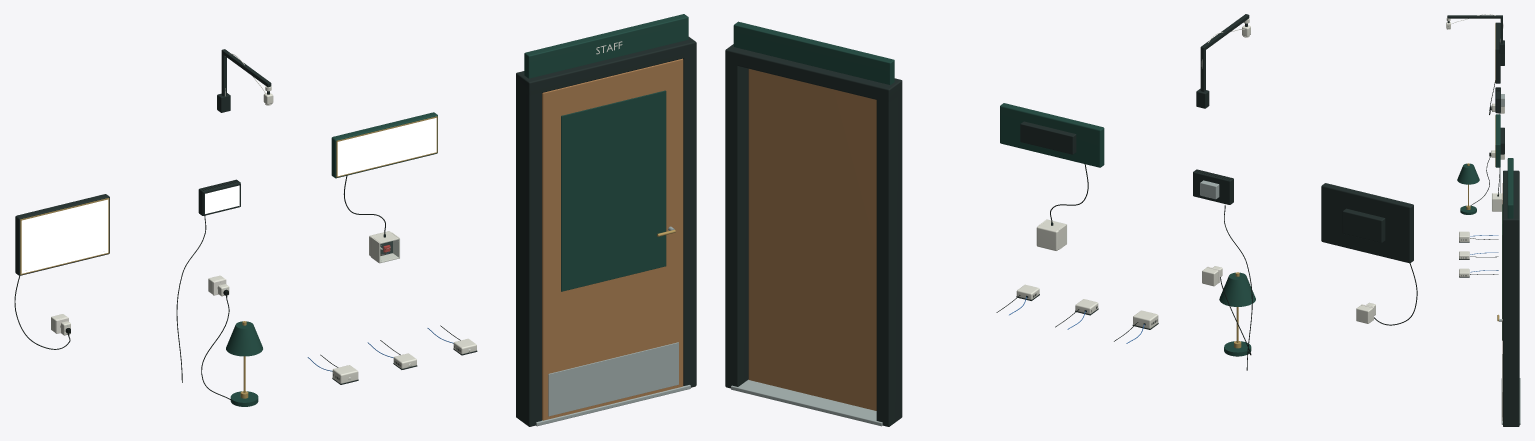
The model's file is automation-kit.studio.glb.
3 renders of one model, left to right at view 1: azimuth 30°, elevation 25°; view 2: azimuth 150°, elevation 25°; view 3: azimuth 270°, elevation 25°, orthographic. The views are drawn at different scales.
Parts seen in each view (by area): view 1: StaffDoorHinge_doorhoneyoak, StaffDoorHinge_spruceenamel, StaffDoorFrame_graphitehardware, StaffDoorHinge_stainlessfasteners, PromoDisplayFace, StaffDoorFrame_spruceenamel, IlluminatedSignFace, DeskLamp_spruceenamel, PromoDisplay_graphitehardware, IlluminatedSign_spruceenamel, ZigbeePresenceSensor_graphitehardware, StaffDoorFrame_stainlessfasteners (+2 smaller); view 2: StaffDoorHinge_doorhoneyoak, StaffDoorFrame_graphitehardware, PromoDisplay_graphitehardware, StaffDoorFrame_spruceenamel, IlluminatedSign_spruceenamel, StaffDoorFrame_stainlessfasteners, IlluminatedSign_graphitehardware, DeskLamp_spruceenamel, EdgeController_graphitehardware, ZigbeePresenceSensor_graphitehardware, ShellyRelay_warmappliancepolymer; view 3: StaffDoorFrame_graphitehardware, DeskLamp_spruceenamel, StaffDoorFrame_spruceenamel, PromoDisplay_graphitehardware, ZigbeePresenceSensor_graphitehardware, IlluminatedSign_spruceenamel, StaffDoorHinge_doorhoneyoak, ShellyRelay_warmappliancepolymer, EdgeController_graphitehardware, StaffDoorFrame_stainlessfasteners, IlluminatedSign_graphitehardware, StaffDoorHinge_spruceenamel (+4 smaller).
Part boxes in pixels (bbox=[...]): StaffDoorHinge_doorhoneyoak: bbox=[542, 58, 683, 420]; StaffDoorHinge_spruceenamel: bbox=[561, 90, 666, 291]; StaffDoorFrame_graphitehardware: bbox=[516, 37, 696, 426]; StaffDoorHinge_stainlessfasteners: bbox=[548, 226, 678, 416]; PromoDisplayFace: bbox=[21, 199, 108, 273]; StaffDoorFrame_spruceenamel: bbox=[524, 14, 688, 78]; IlluminatedSignFace: bbox=[337, 118, 436, 176]; DeskLamp_spruceenamel: bbox=[226, 321, 262, 406]; PromoDisplay_graphitehardware: bbox=[15, 194, 109, 275]; IlluminatedSign_spruceenamel: bbox=[331, 112, 437, 178]; ZigbeePresenceSensor_graphitehardware: bbox=[217, 49, 271, 112]; StaffDoorFrame_stainlessfasteners: bbox=[536, 385, 690, 426]; StaffDoorHinge_doorhoneyoak: bbox=[748, 69, 876, 410]; StaffDoorFrame_graphitehardware: bbox=[725, 44, 902, 426]; PromoDisplay_graphitehardware: bbox=[1321, 183, 1413, 263]; StaffDoorFrame_spruceenamel: bbox=[733, 21, 894, 84]; IlluminatedSign_spruceenamel: bbox=[1000, 103, 1104, 167]; StaffDoorFrame_stainlessfasteners: bbox=[731, 379, 882, 426]; IlluminatedSign_graphitehardware: bbox=[1020, 121, 1076, 154]; DeskLamp_spruceenamel: bbox=[1219, 272, 1255, 356]; EdgeController_graphitehardware: bbox=[1193, 169, 1233, 204]; ZigbeePresenceSensor_graphitehardware: bbox=[1196, 14, 1249, 108]; ShellyRelay_warmappliancepolymer: bbox=[1036, 219, 1066, 250]; StaffDoorFrame_graphitehardware: bbox=[1503, 170, 1519, 426]; DeskLamp_spruceenamel: bbox=[1457, 163, 1479, 214]; StaffDoorFrame_spruceenamel: bbox=[1507, 158, 1513, 218]; PromoDisplay_graphitehardware: bbox=[1495, 22, 1504, 83]; ZigbeePresenceSensor_graphitehardware: bbox=[1447, 15, 1504, 53]; IlluminatedSign_spruceenamel: bbox=[1495, 114, 1500, 167]; StaffDoorHinge_doorhoneyoak: bbox=[1502, 183, 1502, 420]; ShellyRelay_warmappliancepolymer: bbox=[1492, 193, 1502, 211]; EdgeController_graphitehardware: bbox=[1495, 87, 1500, 113]; StaffDoorFrame_stainlessfasteners: bbox=[1501, 378, 1520, 424]; IlluminatedSign_graphitehardware: bbox=[1500, 127, 1504, 154]; StaffDoorHinge_spruceenamel: bbox=[1502, 204, 1502, 340].
Bounding box in the file's own units: 4.59 × 2.91 × 0.7121.
